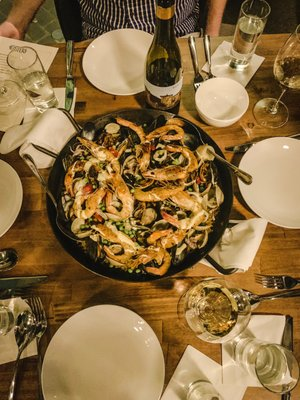pizza: (229, 0, 271, 69)
sushi: (231, 136, 300, 230), (194, 77, 249, 128)
